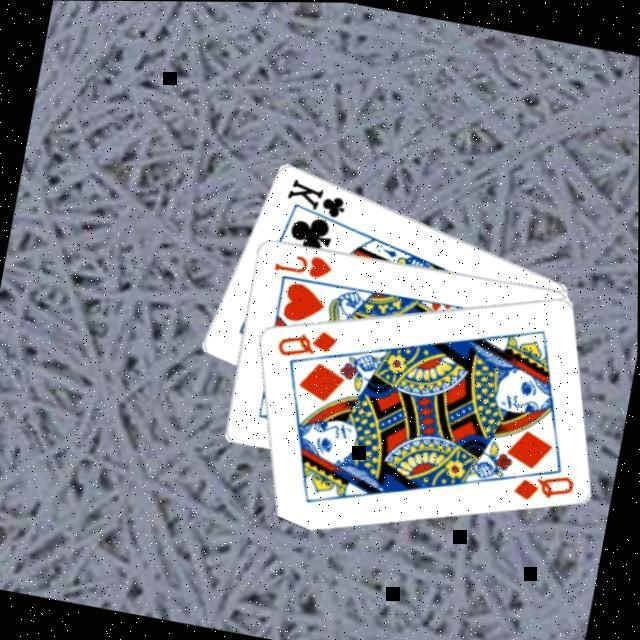JH: (268, 244, 334, 280)
KC: (278, 172, 351, 227)
QD: (507, 460, 576, 508), (271, 317, 339, 365)
